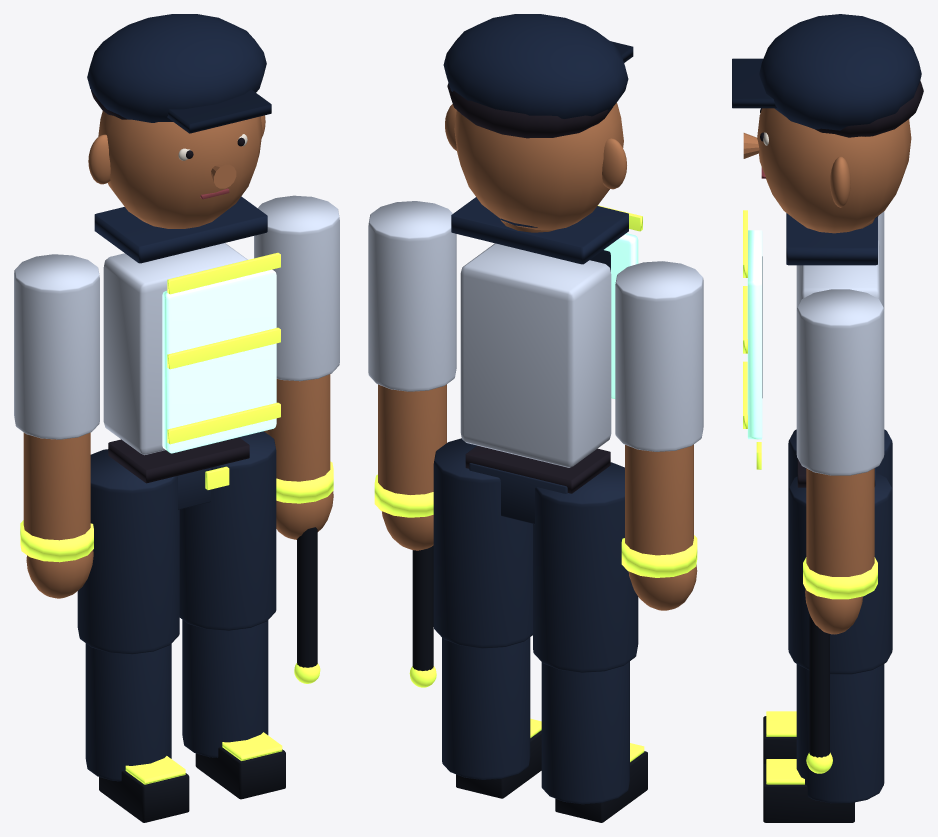
Rendered from char_constable.glb.
3 renders of one model, left to right at view 1: azimuth 30°, elevation 25°; view 2: azimuth 150°, elevation 25°; view 3: azimuth 270°, elevation 25°, orthographic. The views are drawn at different scales.
Visible parts, largest first — view 1: Constable_Thigh_L, Constable_Sleeve_L, Constable_Vest, Constable_Thigh_R, Constable_Cap_Crown, Constable_Face, Constable_Torso, Constable_Sleeve_R, Constable_Shin_R, Constable_Shin_L, Constable_Forearm_L, Constable_Forearm_R (+17 smaller); view 2: Constable_Torso, Constable_Thigh_L, Constable_Thigh_R, Constable_Sleeve_L, Constable_Sleeve_R, Constable_Cap_Crown, Constable_Face, Constable_Shin_L, Constable_Shin_R, Constable_Forearm_L, Constable_Forearm_R, Constable_Shoulder_Tab (+12 smaller); view 3: Constable_Sleeve_R, Constable_Cap_Crown, Constable_Face, Constable_Thigh_R, Constable_Shin_R, Constable_Forearm_R, Constable_Shoulder_Tab, Constable_Vest, Constable_Shoe_R, Constable_Baton, Constable_Torso, Constable_Wrist_R (+10 smaller).
Boxes of the visible parts, x1,y1,x2,y2 form: Constable_Thigh_L: [77, 449, 179, 654]; Constable_Sleeve_L: [14, 254, 99, 439]; Constable_Vest: [162, 269, 276, 453]; Constable_Thigh_R: [179, 431, 276, 630]; Constable_Cap_Crown: [87, 14, 266, 122]; Constable_Face: [98, 110, 262, 228]; Constable_Torso: [103, 243, 247, 455]; Constable_Sleeve_R: [254, 195, 339, 381]; Constable_Shin_R: [182, 620, 268, 757]; Constable_Shin_L: [85, 643, 171, 781]; Constable_Forearm_L: [23, 432, 90, 540]; Constable_Forearm_R: [264, 374, 330, 481]; Constable_Torso: [460, 243, 611, 467]; Constable_Thigh_L: [533, 462, 638, 672]; Constable_Thigh_R: [433, 438, 532, 648]; Constable_Sleeve_L: [615, 261, 703, 451]; Constable_Sleeve_R: [368, 201, 456, 391]; Constable_Cap_Crown: [443, 14, 628, 118]; Constable_Face: [454, 103, 623, 230]; Constable_Shin_L: [541, 661, 629, 804]; Constable_Shin_R: [442, 637, 530, 779]; Constable_Forearm_L: [625, 444, 693, 555]; Constable_Forearm_R: [378, 384, 446, 494]; Constable_Shoulder_Tab: [451, 197, 628, 264]; Constable_Sleeve_R: [796, 289, 884, 475]; Constable_Cap_Crown: [759, 14, 921, 130]; Constable_Face: [757, 108, 911, 233]; Constable_Thigh_R: [788, 472, 892, 674]; Constable_Shin_R: [796, 664, 884, 803]; Constable_Forearm_R: [806, 468, 874, 576]; Constable_Shoulder_Tab: [786, 213, 877, 265]; Constable_Vest: [747, 230, 762, 439]; Constable_Shoe_R: [763, 763, 854, 822]; Constable_Baton: [809, 614, 829, 757]; Constable_Torso: [801, 240, 879, 299]; Constable_Wrist_R: [803, 557, 877, 599].
Bounding box in the file's own units: 0.8747 × 2.01 × 0.46.
